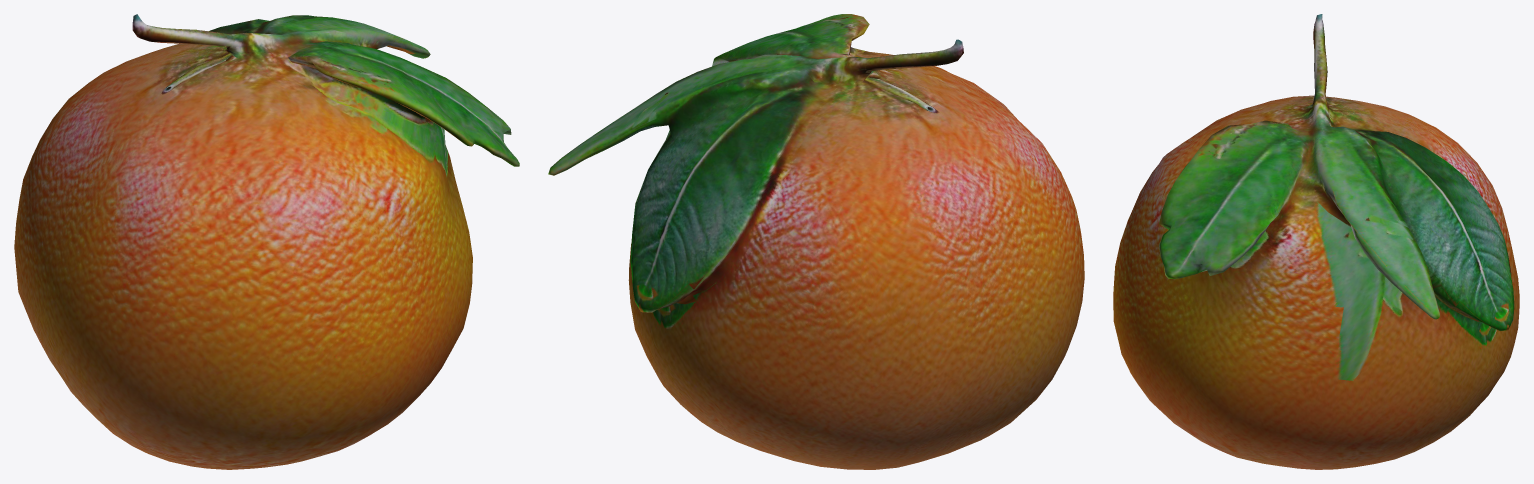
Rendered from 93195a8006d0_tangerine_min.fbx.
3 views of the same model, side by side, from view 1: azimuth 30°, elevation 25°; view 2: azimuth 150°, elevation 25°; view 3: azimuth 270°, elevation 25° (orthographic). The views are drawn at different scales.
Visible parts, largest first — view 1: mesh; view 2: mesh; view 3: mesh.
Part boxes in pixels (x1,y1,x2,y2): mesh: (14, 14, 519, 469); mesh: (548, 14, 1084, 469); mesh: (1113, 14, 1519, 469).
Size of the model in its own units: 99.47 by 95.32 by 90.43.
